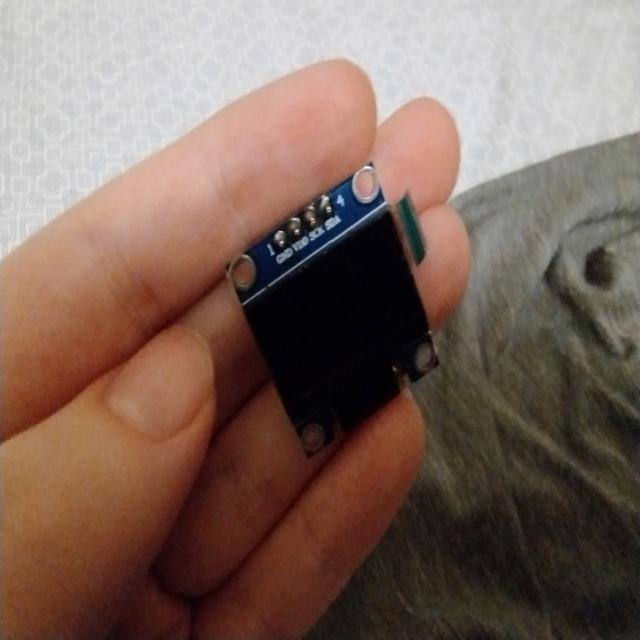oled: (226, 152, 449, 466)
